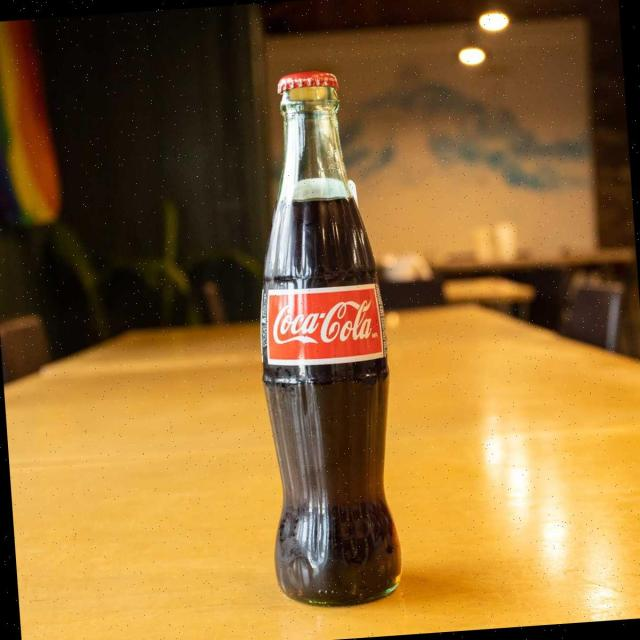coca-cola: (234, 64, 418, 609)
